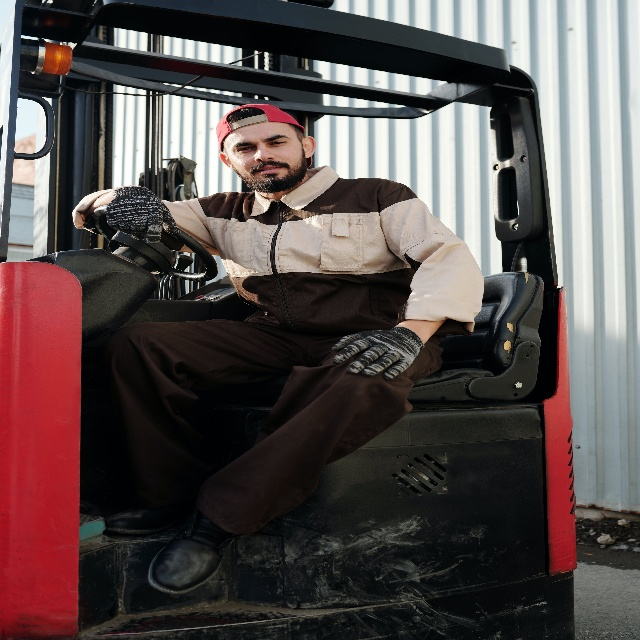Guantes: (332, 322, 426, 382), (104, 184, 181, 245)
